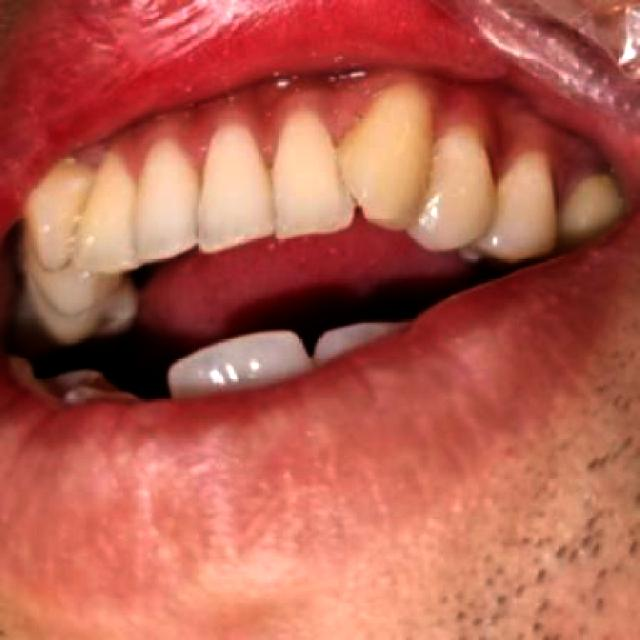Plaque: (285, 87, 371, 146), (77, 134, 129, 188)
